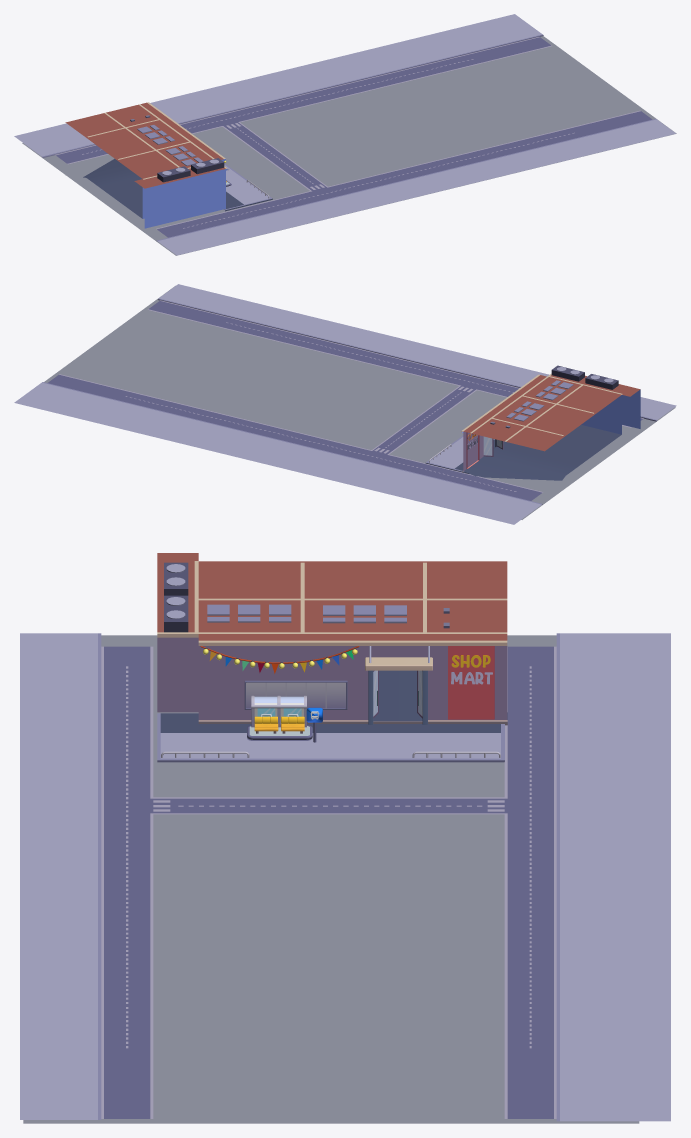
File: map_ver_2.fbx
3 renders of one model, top to bottom at view 1: azimuth 30°, elevation 25°; view 2: azimuth 150°, elevation 25°; view 3: azimuth 270°, elevation 25°, orthographic. The views are drawn at different scales.
Parts seen in each view (by area): view 1: Floor, road, wall, pavement1; view 2: Floor, wall, road, pavement1; view 3: Floor, road, wall, pavement1, bus_stop.
Boxes of the visible parts, x1=… form: Floor: x1=14, y1=14, x2=676, y2=255; road: x1=55, y1=36, x2=652, y2=237; wall: x1=65, y1=102, x2=227, y2=228; pavement1: x1=224, y1=163, x2=272, y2=211; Floor: x1=14, y1=284, x2=676, y2=524; wall: x1=461, y1=365, x2=640, y2=480; road: x1=48, y1=300, x2=643, y2=500; pavement1: x1=425, y1=435, x2=494, y2=473; Floor: x1=20, y1=633, x2=670, y2=1123; road: x1=101, y1=646, x2=556, y2=1118; wall: x1=157, y1=553, x2=507, y2=725; pavement1: x1=157, y1=713, x2=504, y2=762; bus_stop: x1=247, y1=695, x2=322, y2=742.
Bounding box in the file's own units: 403 × 44.96 × 227.
